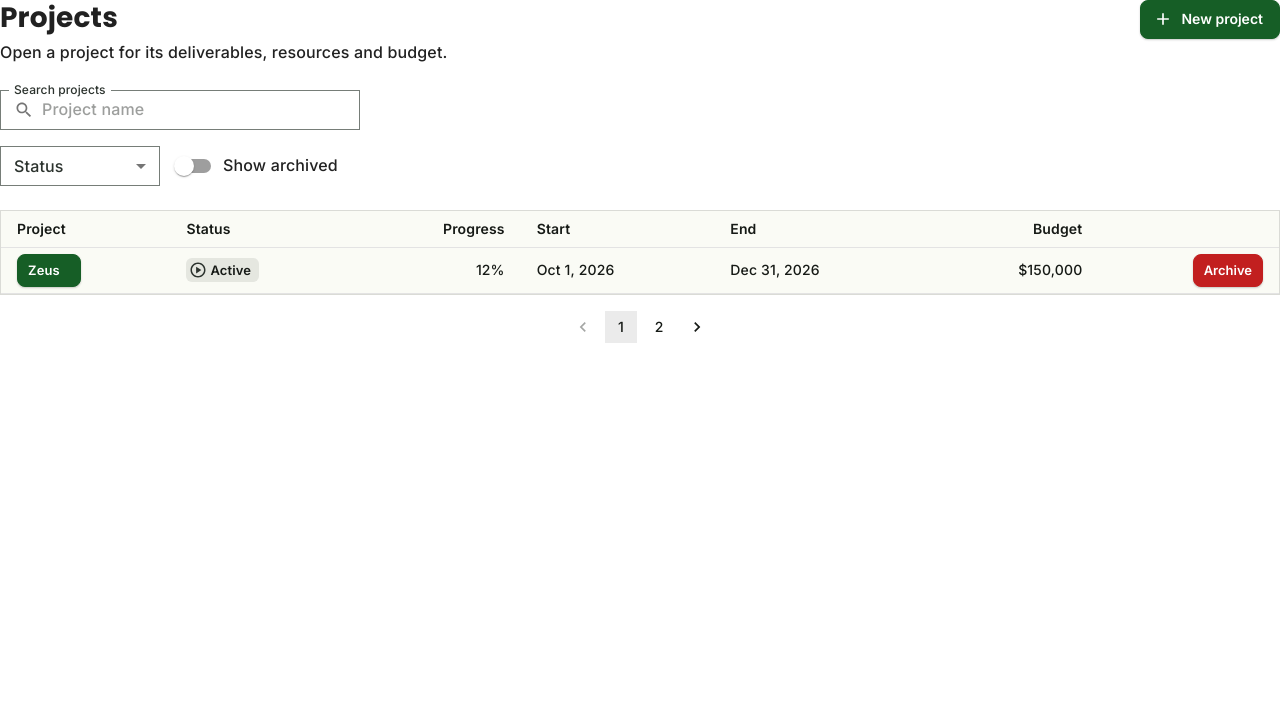
Test: ProjectsPage › archiving from the list › steps back to the last page that exists when archiving empties the page you are on
expect the link "Zeus" is shown: met, box [17,254,81,287]
Click the button named "go to page 2" at (659,327), box [643,311,675,343]
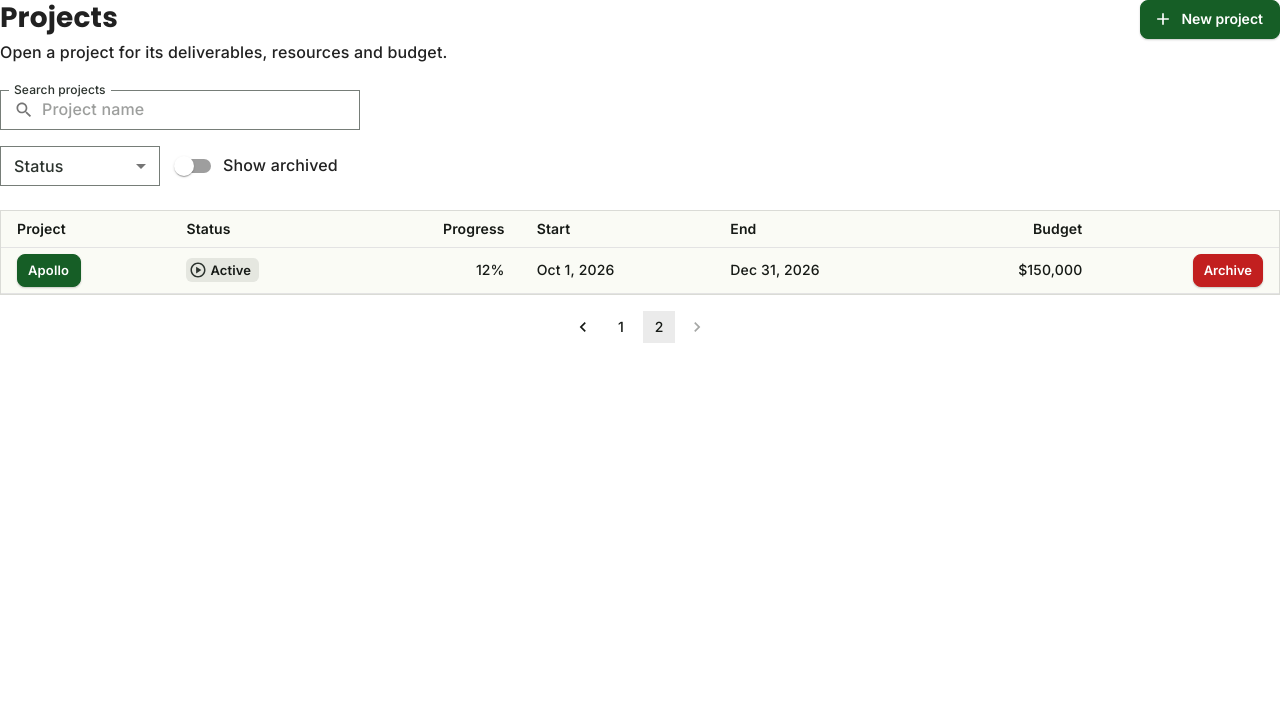
Click the button with aria-label "Archive Apollo" at (1228,270), box [1193,254,1263,287]
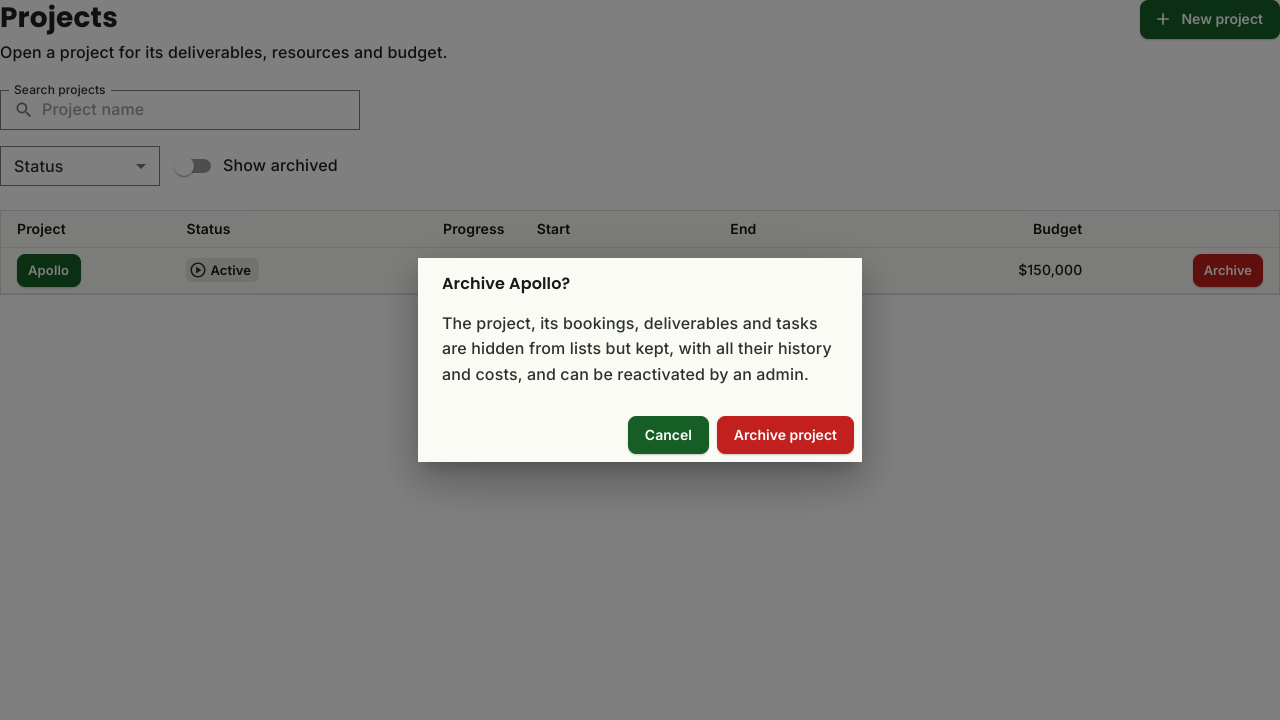
Click the button "Archive project" at (785,435), box [717,416,854,454]
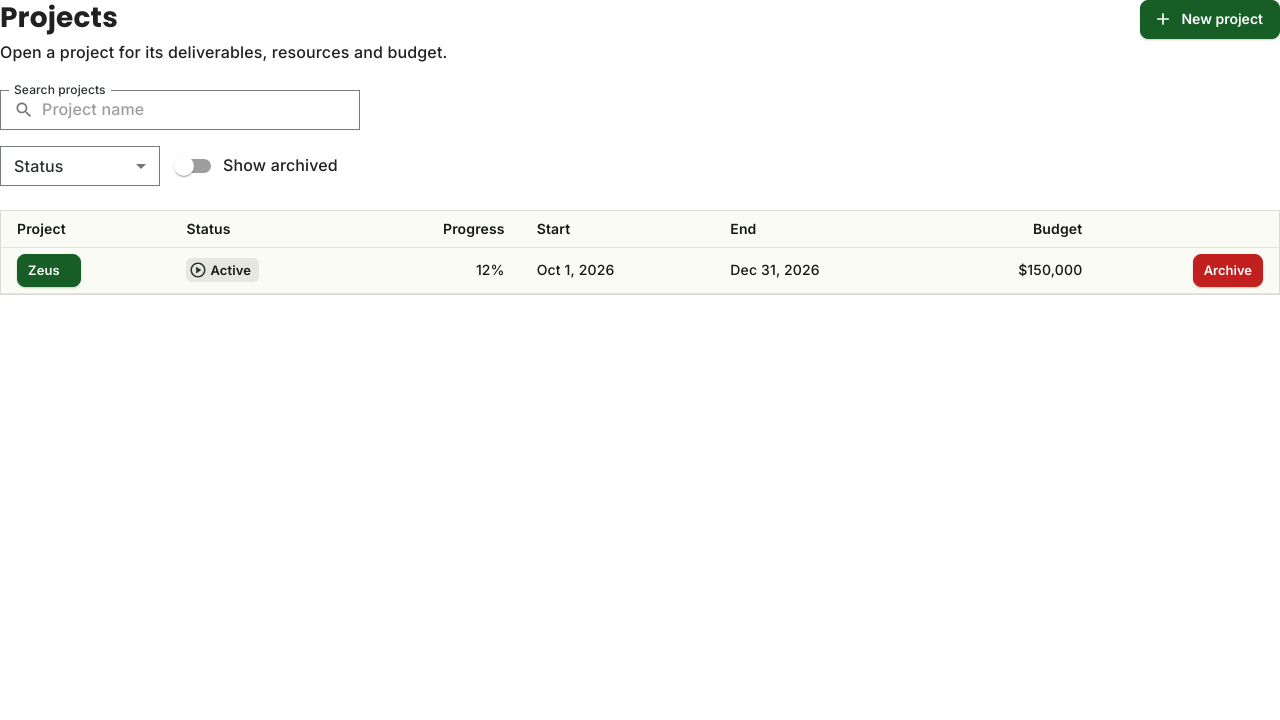
expect the link "Zeus" is shown: met, box [17,254,81,287]
